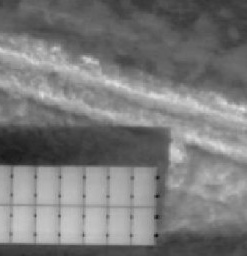solar: (8, 164, 38, 206), (33, 164, 63, 206), (57, 164, 87, 206), (80, 164, 110, 206), (105, 164, 135, 206), (128, 164, 158, 206), (128, 203, 158, 245), (104, 203, 134, 245), (80, 203, 110, 245), (56, 203, 86, 245), (32, 203, 62, 245), (8, 203, 38, 245)
